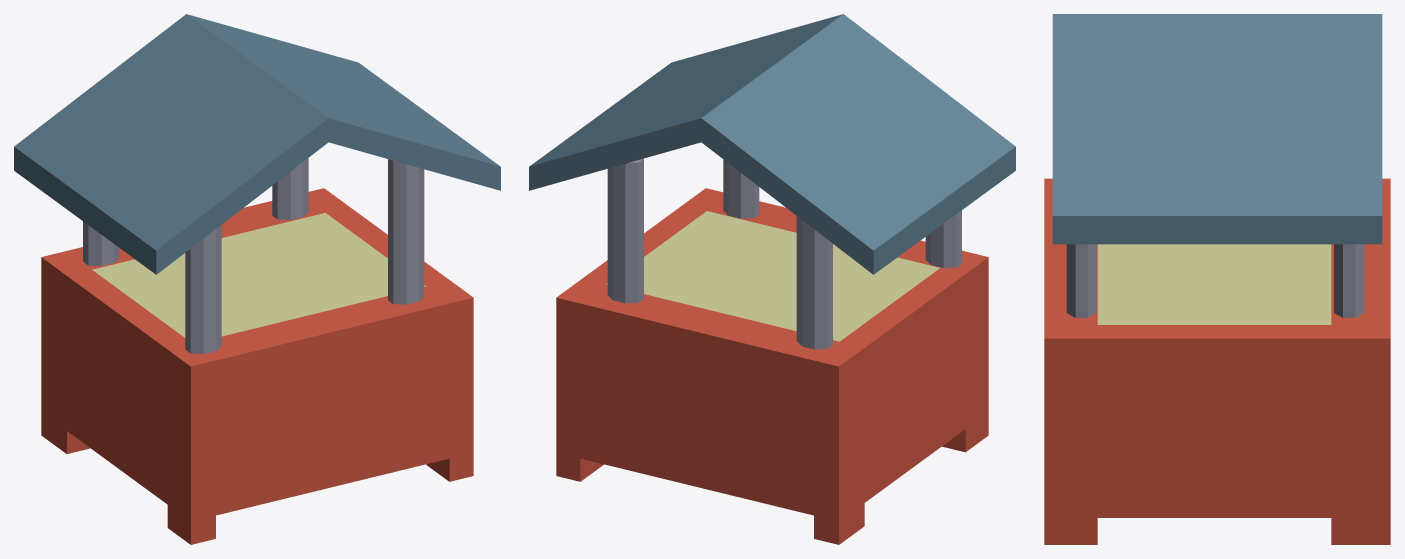
The model's file is Barracas3.fbx.
3 renders of one model, left to right at view 1: azimuth 30°, elevation 25°; view 2: azimuth 150°, elevation 25°; view 3: azimuth 270°, elevation 25°, orthographic. The views are drawn at different scales.
Parts seen in each view (by area): view 1: Cube, Cube.001, Cube.004, Cube.005, Cube.003, Cube.002; view 2: Cube, Cube.001, Cube.003, Cube.002, Cube.004, Cube.005; view 3: Cube, Cube.001, Cube.003, Cube.004.
Part boxes in pixels (x1,y1,x2,y2): Cube: [41, 188, 473, 544]; Cube.001: [14, 14, 500, 274]; Cube.004: [388, 159, 424, 304]; Cube.005: [185, 225, 221, 353]; Cube.003: [272, 158, 308, 219]; Cube.002: [83, 221, 119, 266]; Cube: [556, 188, 988, 544]; Cube.001: [529, 14, 1015, 274]; Cube.003: [607, 158, 643, 303]; Cube.002: [796, 216, 832, 349]; Cube.004: [723, 159, 759, 218]; Cube.005: [925, 210, 961, 268]; Cube: [1044, 178, 1390, 544]; Cube.001: [1052, 14, 1382, 244]; Cube.003: [1334, 244, 1364, 317]; Cube.004: [1066, 244, 1096, 317].
Size of the model in its own units: 782 by 846 by 589.
